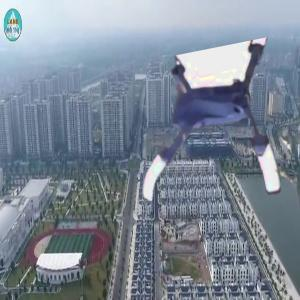drone: (124, 52, 289, 217)
